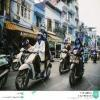motorcycles: (16, 50, 40, 86), (70, 50, 83, 84), (12, 46, 28, 68), (60, 47, 70, 74)
